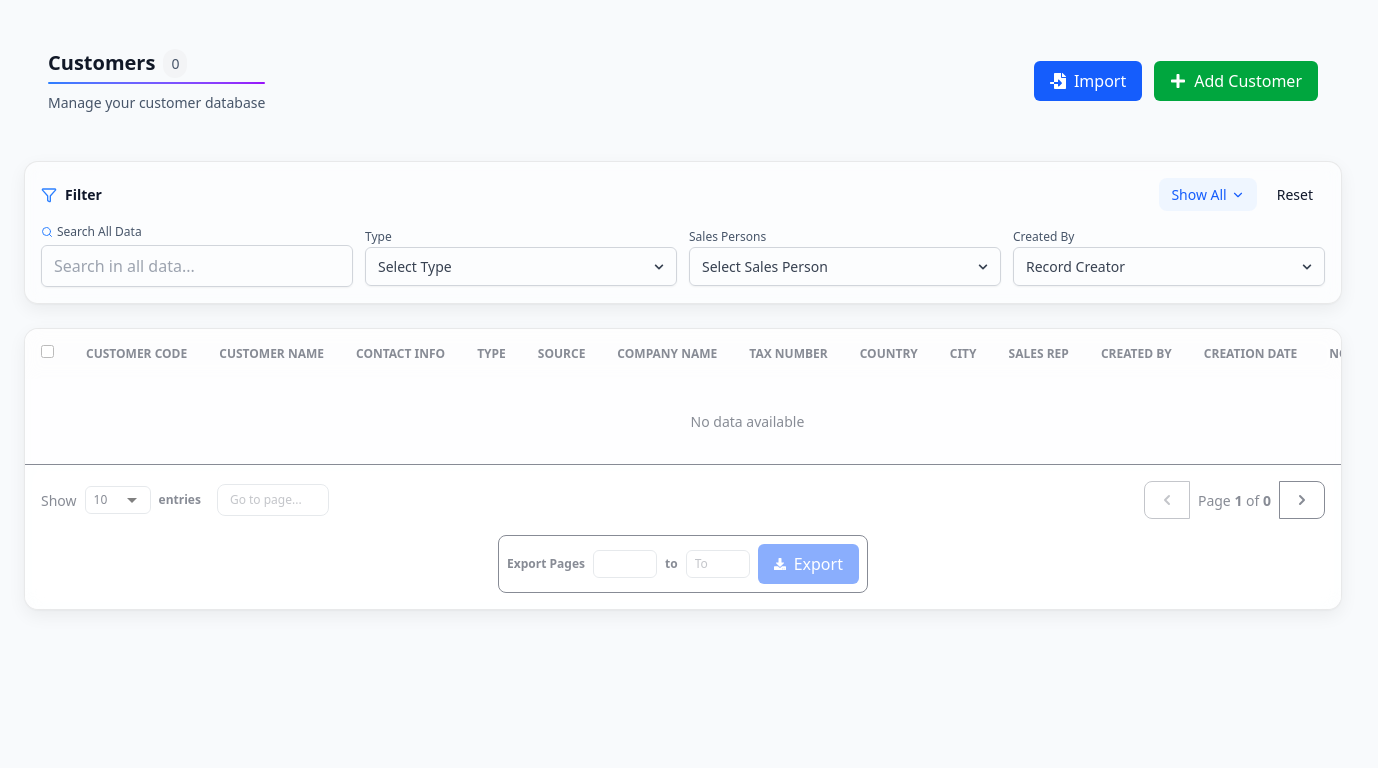
Test: Customers Page › toggles advanced filters
The image size is (1378, 768).
// Click to show
Click the button "Show All" at (1208, 194), box [1159,178,1257,211]
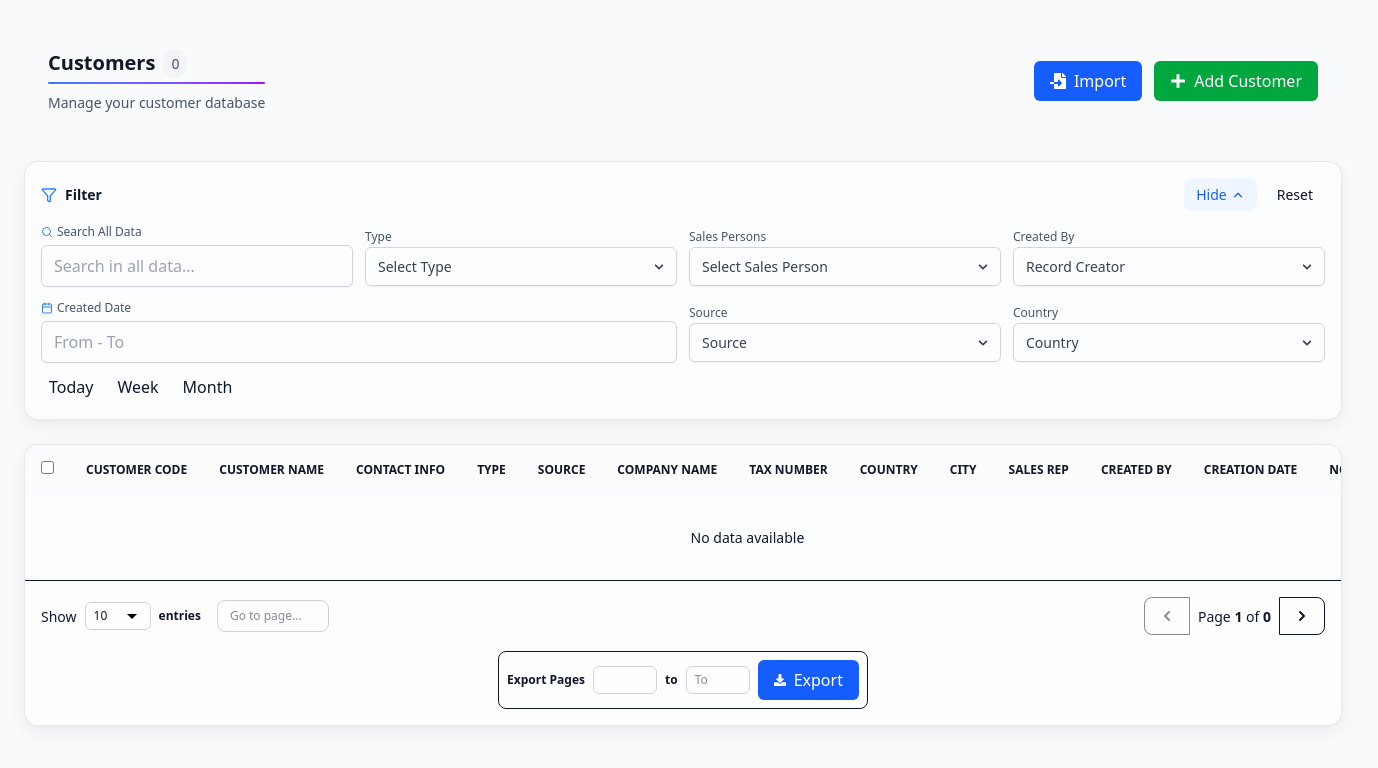
Now the button "Hide" is shown, box [1184,178,1257,211]
